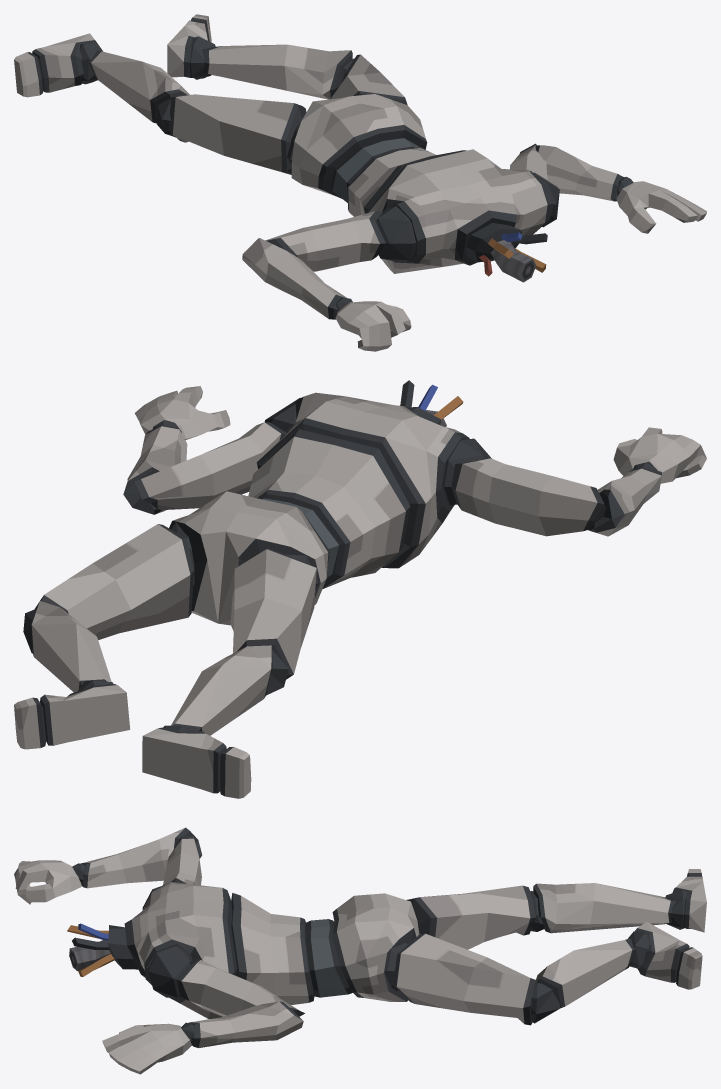
File: SM_Prop_Robot_Posed_05.fbx
The picture shows the model from 3 angles, top to bottom: view 1: azimuth 30°, elevation 25°; view 2: azimuth 150°, elevation 25°; view 3: azimuth 270°, elevation 25°; orthographic projection. The views are drawn at different scales.
Visible parts, largest first — view 1: SM_Prop_Robot_Posed_05; view 2: SM_Prop_Robot_Posed_05; view 3: SM_Prop_Robot_Posed_05.
Boxes of the visible parts, x1=… form: SM_Prop_Robot_Posed_05: x1=14, y1=14, x2=706, y2=351; SM_Prop_Robot_Posed_05: x1=14, y1=380, x2=706, y2=798; SM_Prop_Robot_Posed_05: x1=14, y1=827, x2=706, y2=1074.
Bounding box in the file's own units: 119 × 29.19 × 176.
